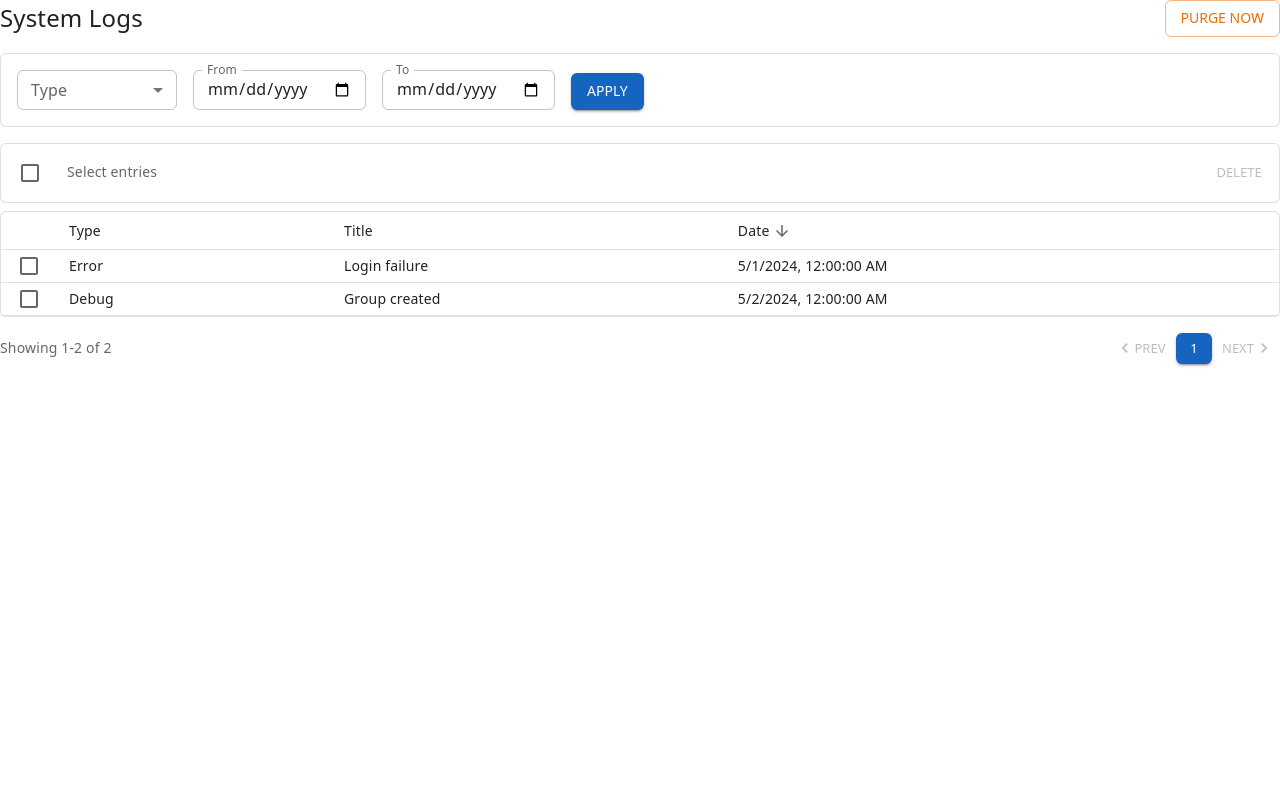
LogViewerPage (TS-M4-G3) › bulk delete removes selected rows (AC-4)
Expected: the text "Login failure" is shown, [328, 249, 722, 282]
Click the checkbox named "Select log 1": (29, 266) [17, 254, 41, 278]
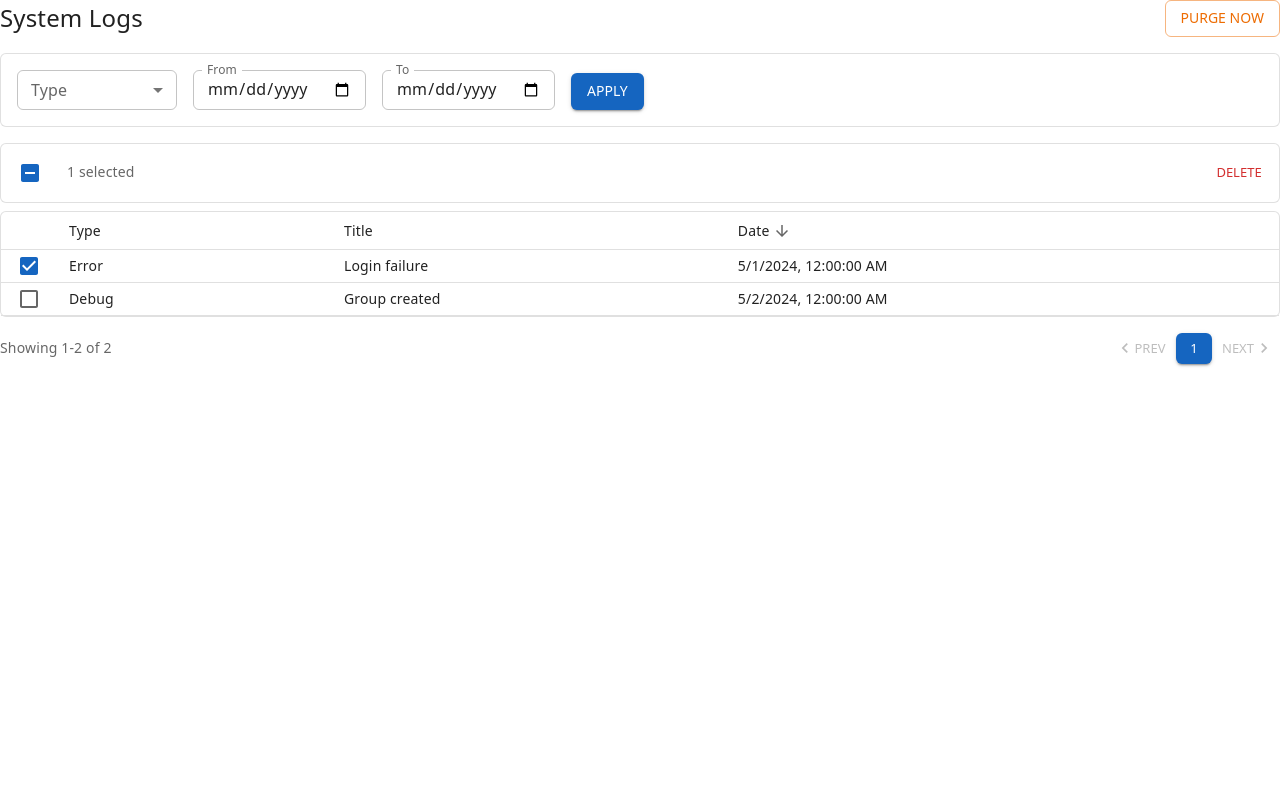
Click the button with test id "log-bulk-delete": (1239, 172) [1207, 157, 1271, 188]
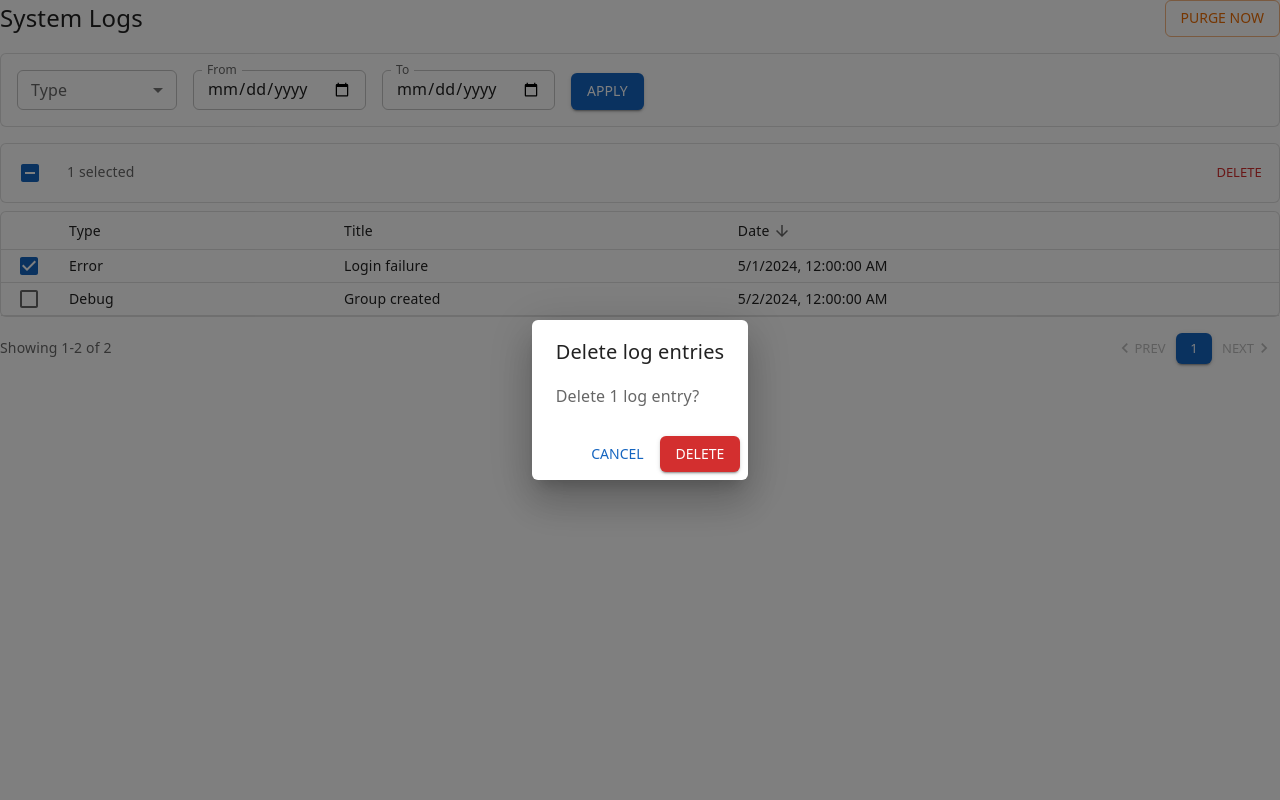
Click the button with test id "log-bulk-delete-confirm": (700, 454) [660, 436, 740, 472]
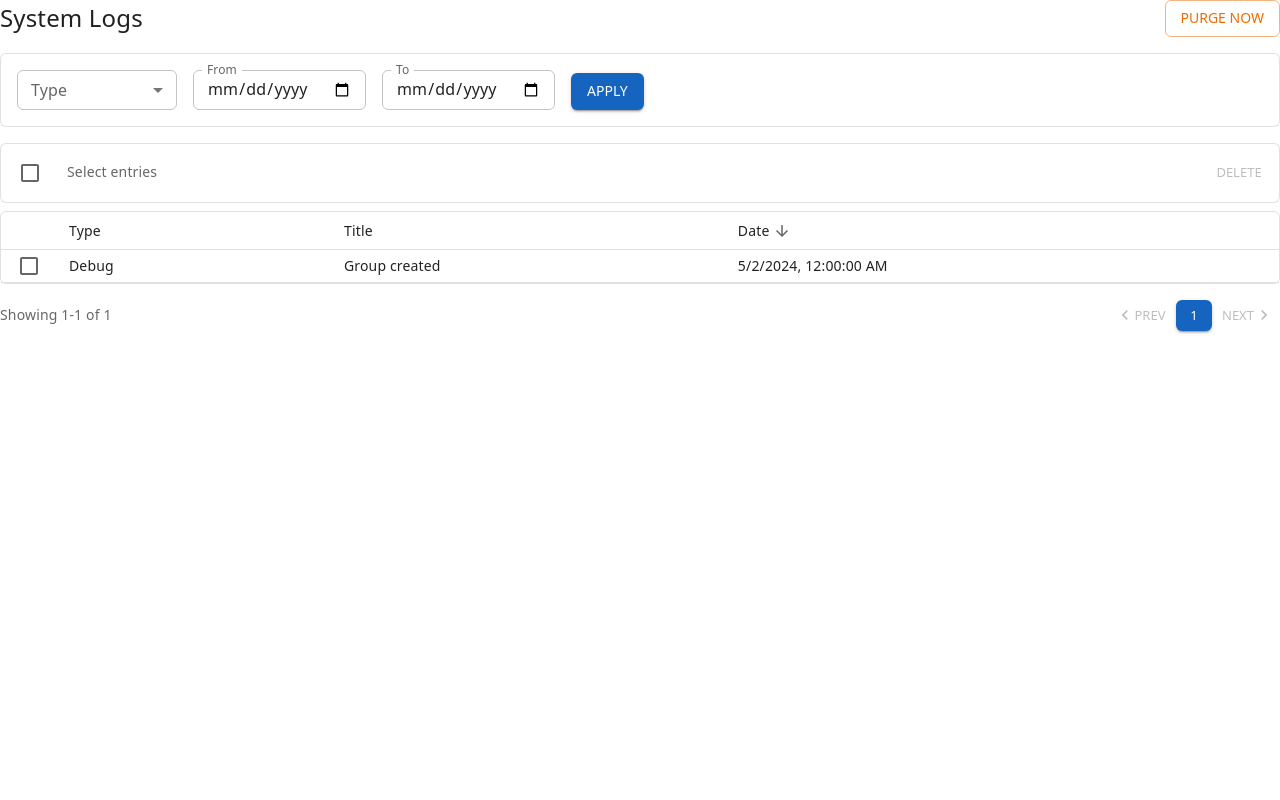
Now the text "Login failure" is gone
